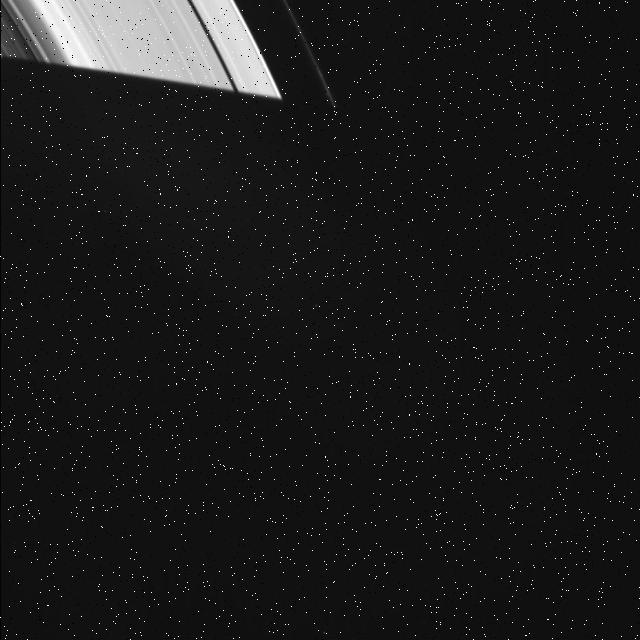Saturn: (0, 0, 342, 114)
